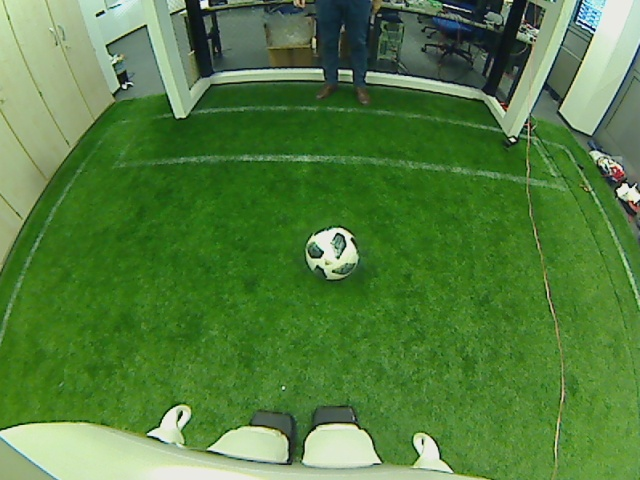ball: (303, 226, 360, 280)
